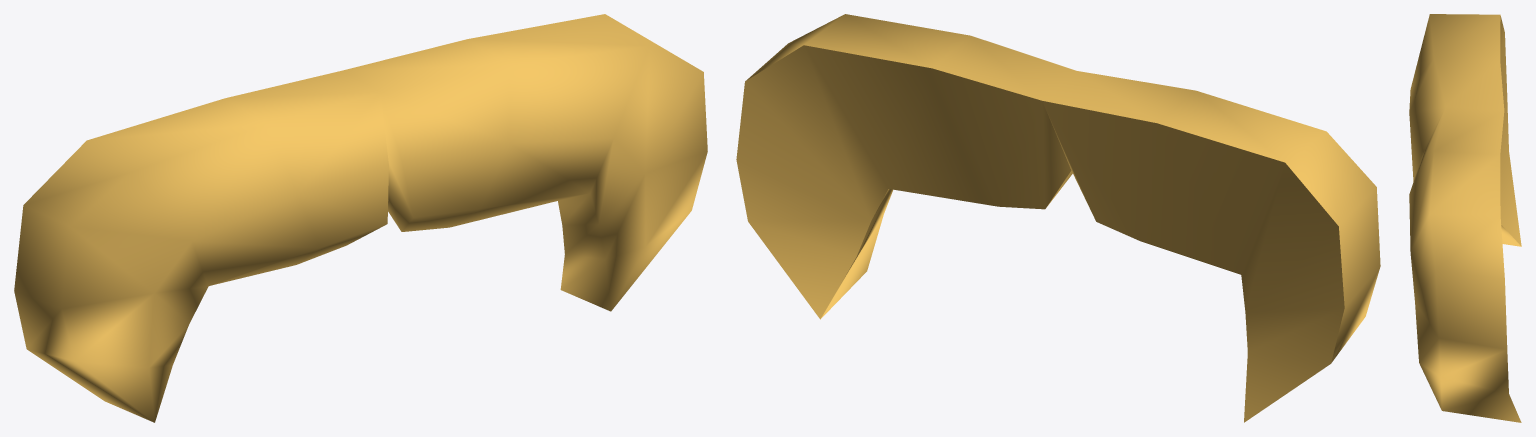
Rendered from Beard_Yellow_5.fbx.
The picture shows the model from 3 angles, left to right: view 1: azimuth 30°, elevation 25°; view 2: azimuth 150°, elevation 25°; view 3: azimuth 270°, elevation 25°; orthographic projection. The views are drawn at different scales.
Visible parts, largest first — view 1: Beard_Yellow_5; view 2: Beard_Yellow_5; view 3: Beard_Yellow_5.
Boxes of the visible parts, left/top/right/bottom form: Beard_Yellow_5: left=14, top=14, right=707, bottom=422; Beard_Yellow_5: left=736, top=14, right=1380, bottom=422; Beard_Yellow_5: left=1409, top=14, right=1521, bottom=422.
Size of the model in its own units: 30.33 by 12.89 by 5.69.
